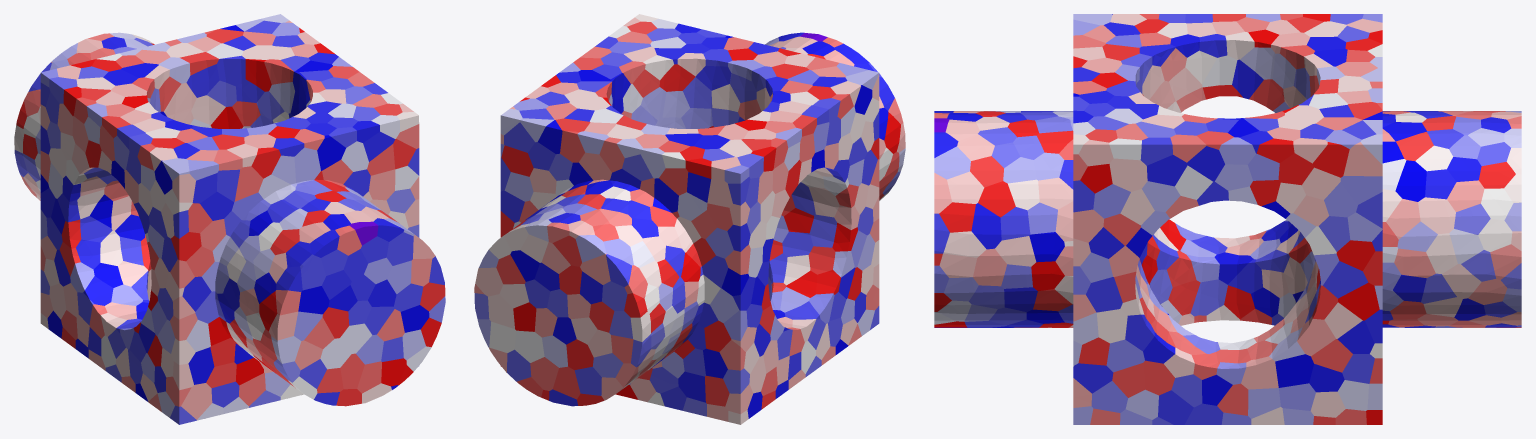
Rendered from Ours_1000_block_Iter2_RVD.obj.
The picture shows the model from 3 angles, left to right: view 1: azimuth 30°, elevation 25°; view 2: azimuth 150°, elevation 25°; view 3: azimuth 270°, elevation 25°; orthographic projection. The views are drawn at different scales.
Visible parts, largest first — view 1: 3D_Object; view 2: 3D_Object; view 3: 3D_Object.
Part boxes in pixels (box(x1,y1,x2,y2)): 3D_Object: box(14, 14, 445, 424); 3D_Object: box(474, 14, 905, 424); 3D_Object: box(934, 14, 1521, 424).
Bounding box in the file's own units: 20 × 20 × 38.
Materials: 1 (1 with a texture image).
